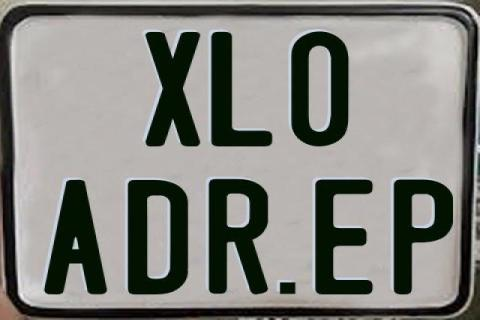0: (288, 29, 346, 147)
A: (44, 179, 114, 293)
D: (125, 180, 191, 298)
E: (313, 177, 372, 295)
L: (211, 30, 278, 144)
P: (394, 179, 458, 295)
R: (207, 177, 271, 295)
X: (146, 30, 206, 144)
